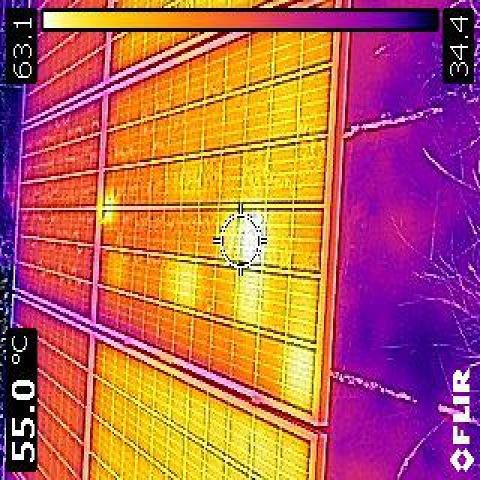fault: (241, 208, 264, 264), (106, 195, 118, 221)
